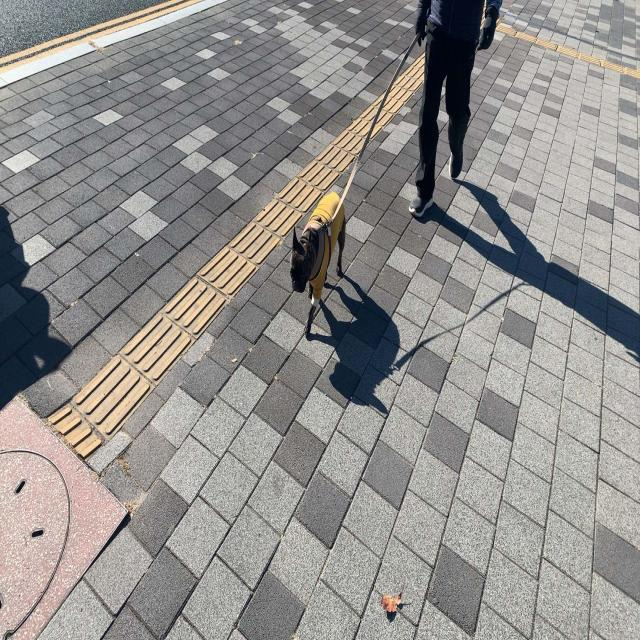Leashed_Dog: (290, 0, 450, 339)
